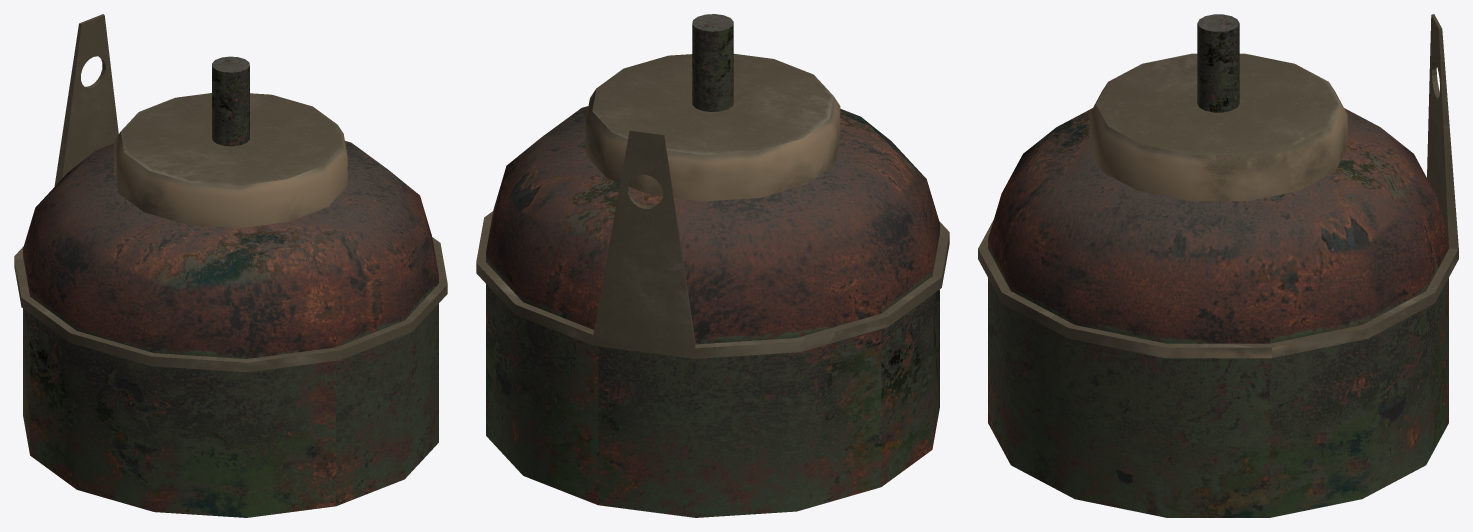
File: pelitaminyak.fbx
3 views of the same model, side by side, from view 1: azimuth 30°, elevation 25°; view 2: azimuth 150°, elevation 25°; view 3: azimuth 270°, elevation 25° (orthographic). The views are drawn at different scales.
Parts seen in each view (by area): view 1: pelitaminyak; view 2: pelitaminyak; view 3: pelitaminyak.
Boxes of the visible parts, x1,y1,x2,y2 form: pelitaminyak: [14, 14, 447, 517]; pelitaminyak: [476, 14, 949, 517]; pelitaminyak: [978, 14, 1458, 517].
Size of the model in its own units: 107 by 101 by 110.
